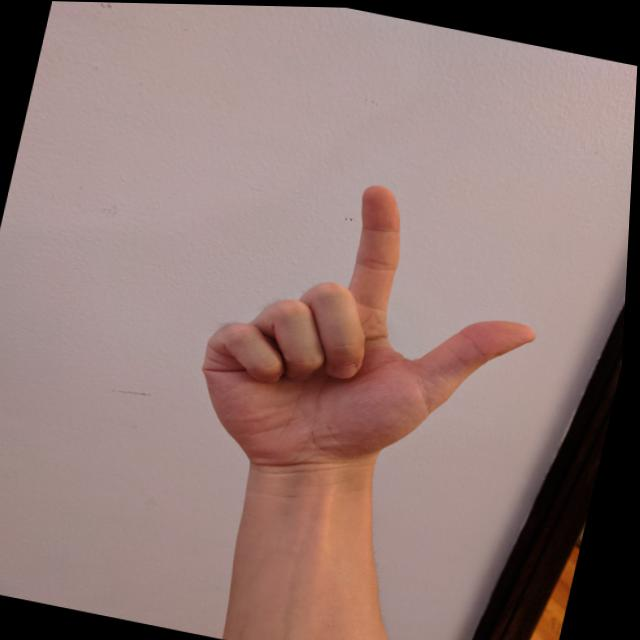L: (177, 150, 575, 517)
